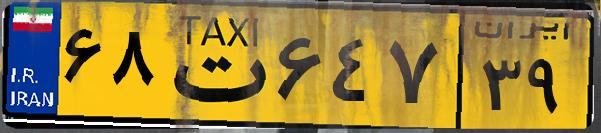3: (475, 38, 525, 113)
4: (330, 28, 385, 110)
6: (270, 28, 330, 110), (57, 26, 110, 100)
7: (385, 28, 445, 110)
8: (110, 28, 158, 98)
9: (525, 38, 570, 115)
ت: (158, 12, 270, 120)
